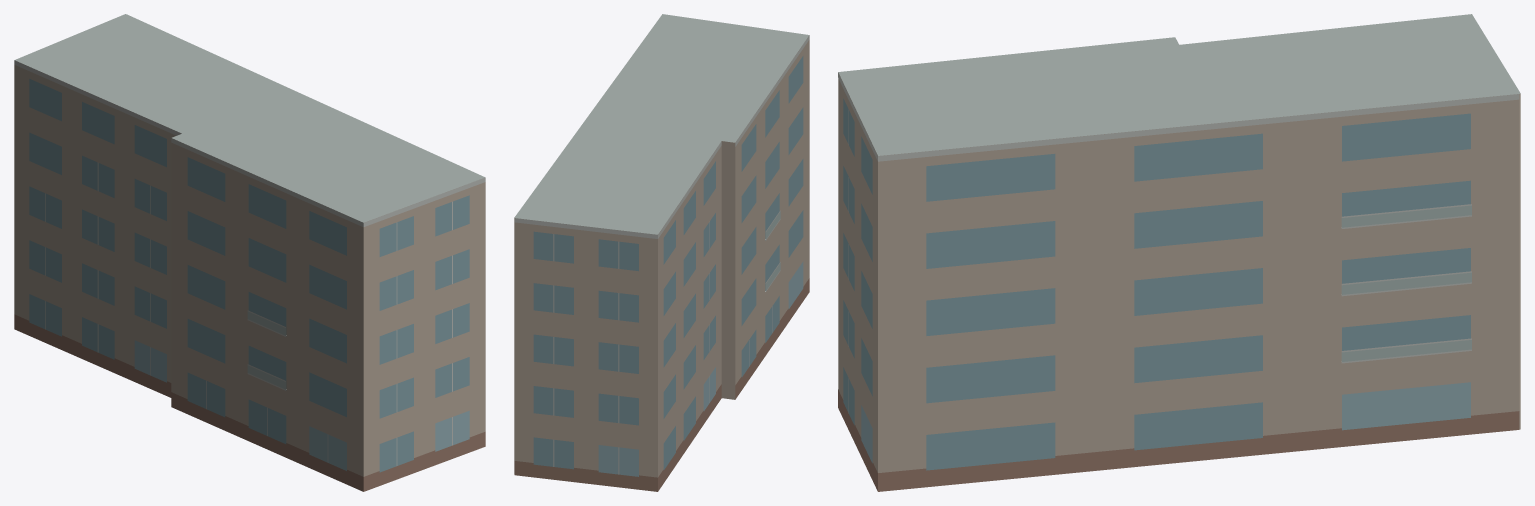
The model's file is survey-upis-32907279.glb.
3 renders of one model, left to right at view 1: azimuth 30°, elevation 25°; view 2: azimuth 150°, elevation 25°; view 3: azimuth 270°, elevation 25°, orthographic. The views are drawn at different scales.
Parts seen in each view (by area): view 1: survey-upis-32907279.tmp; view 2: survey-upis-32907279.tmp; view 3: survey-upis-32907279.tmp.
Boxes of the visible parts, x1,y1,x2,y2 form: survey-upis-32907279.tmp: (14, 14, 485, 491); survey-upis-32907279.tmp: (514, 14, 809, 491); survey-upis-32907279.tmp: (838, 14, 1520, 491).
Bounding box in the file's own units: 13.07 × 14.4 × 26.53.
